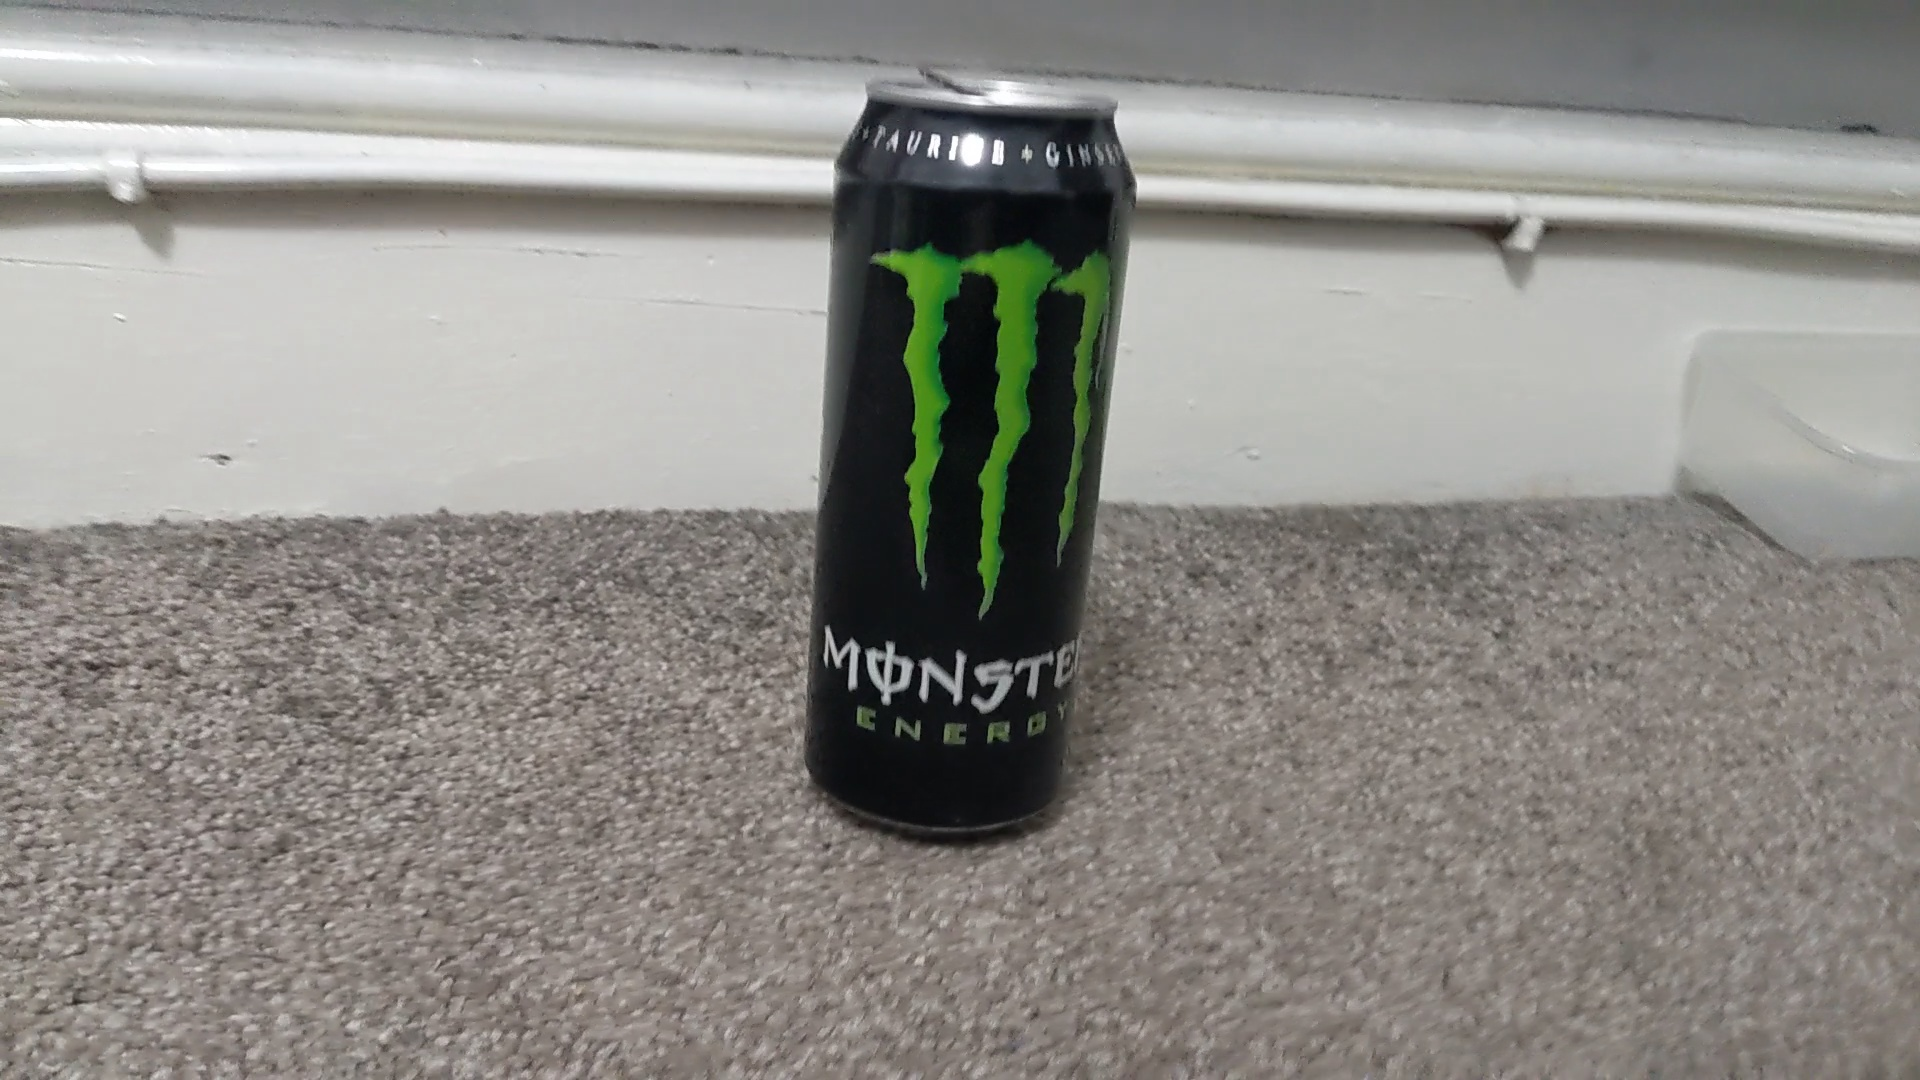monster-original: (804, 80, 1138, 836)
